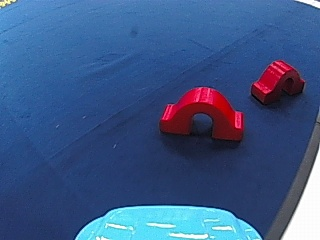bridge: (157, 82, 245, 138), (248, 57, 306, 106)
